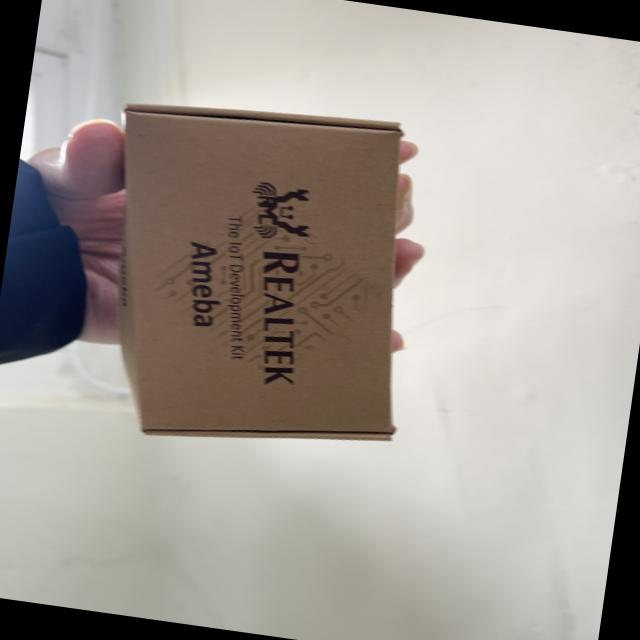box: (60, 80, 458, 488)
